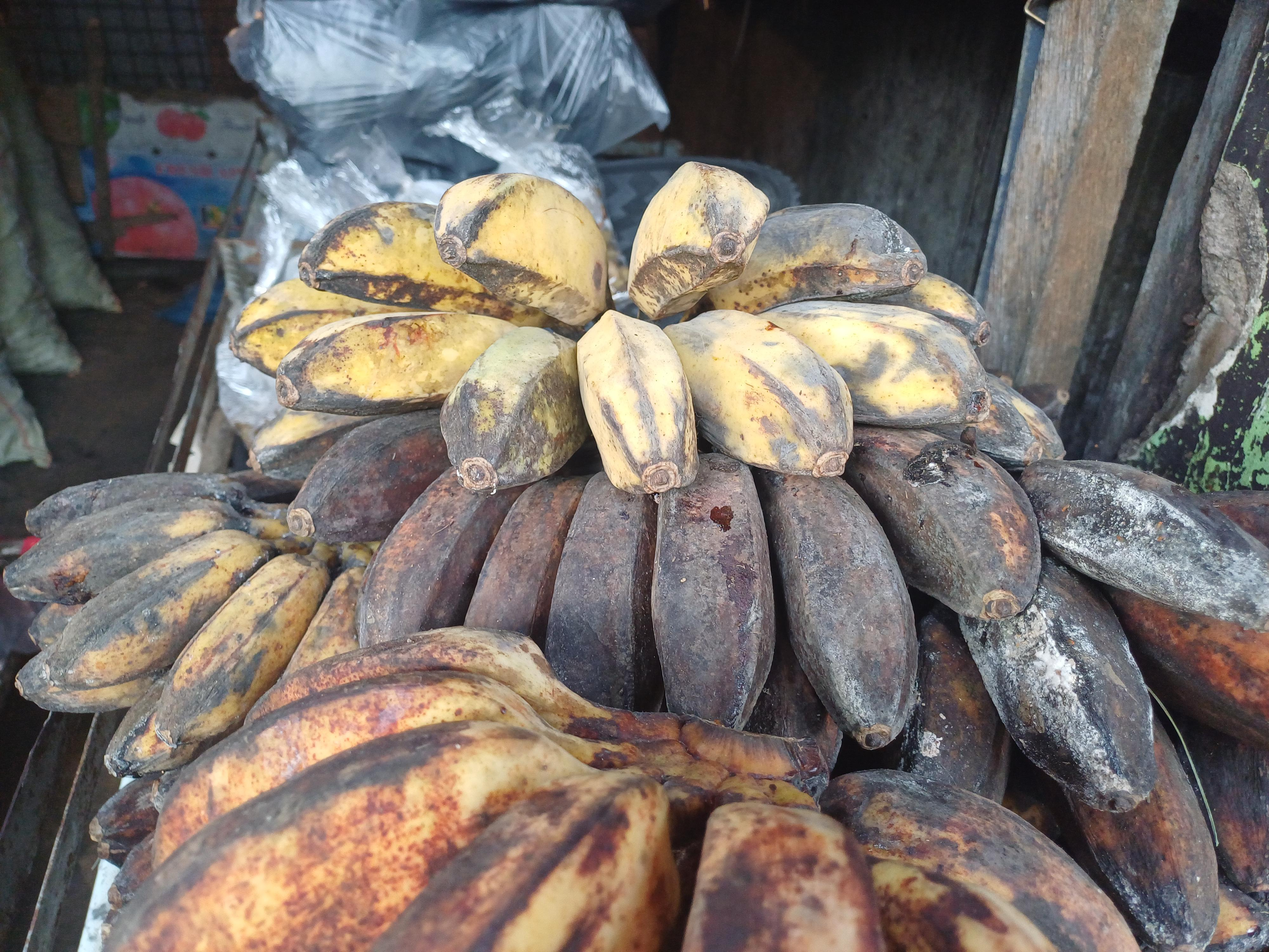overripe: (257, 379, 1063, 748), (903, 460, 1269, 952), (3, 475, 368, 776)
ripe: (92, 626, 1155, 952), (230, 162, 990, 492)
